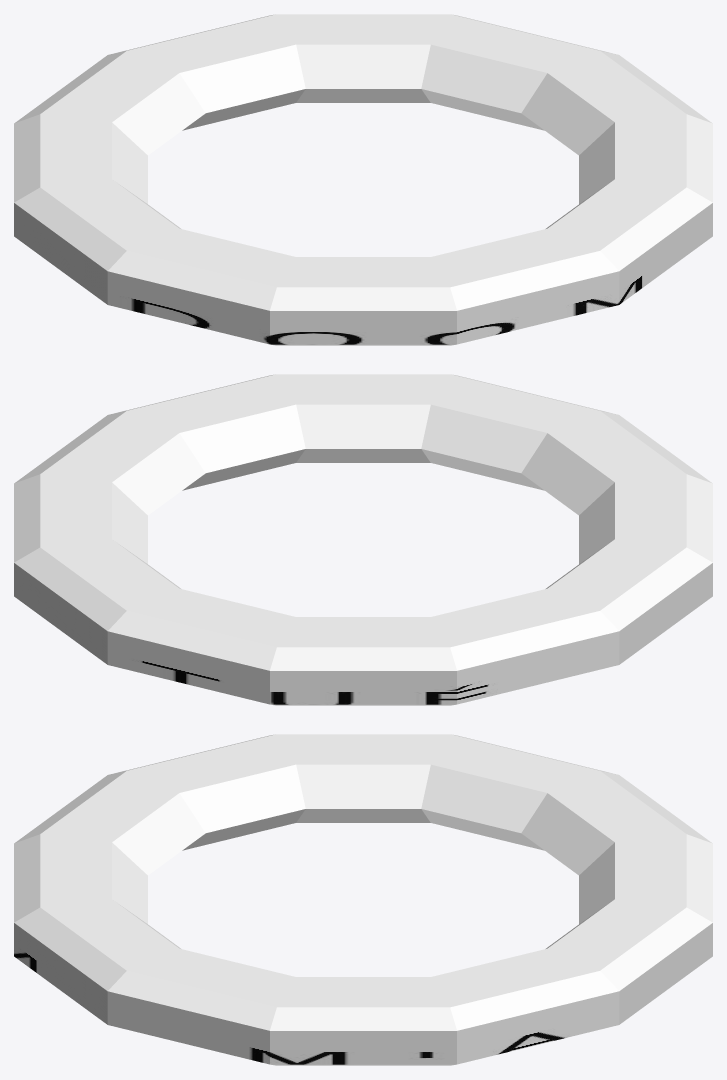
File: rip.obj
The picture shows the model from 3 angles, top to bottom: view 1: azimuth 30°, elevation 25°; view 2: azimuth 150°, elevation 25°; view 3: azimuth 270°, elevation 25°; orthographic projection.
Visible parts, largest first — view 1: Cube; view 2: Cube; view 3: Cube.
Part boxes in pixels (x1=…): Cube: x1=14, y1=14, x2=712, y2=345; Cube: x1=14, y1=374, x2=712, y2=705; Cube: x1=14, y1=734, x2=712, y2=1065.
Bounding box in the file's own units: 8.81 × 0.8119 × 8.81.
